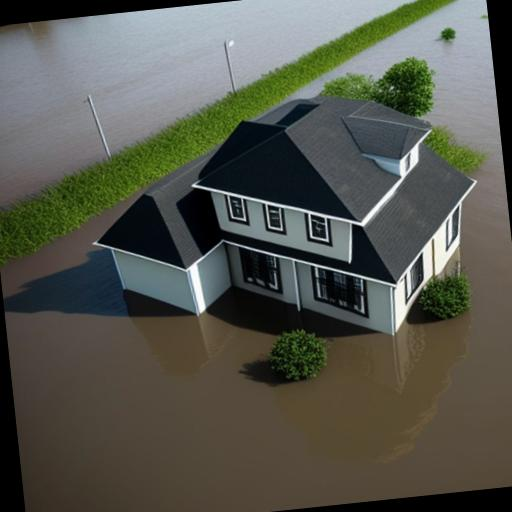flood: (0, 0, 512, 512), (0, 0, 414, 207)
house: (76, 78, 494, 371)
